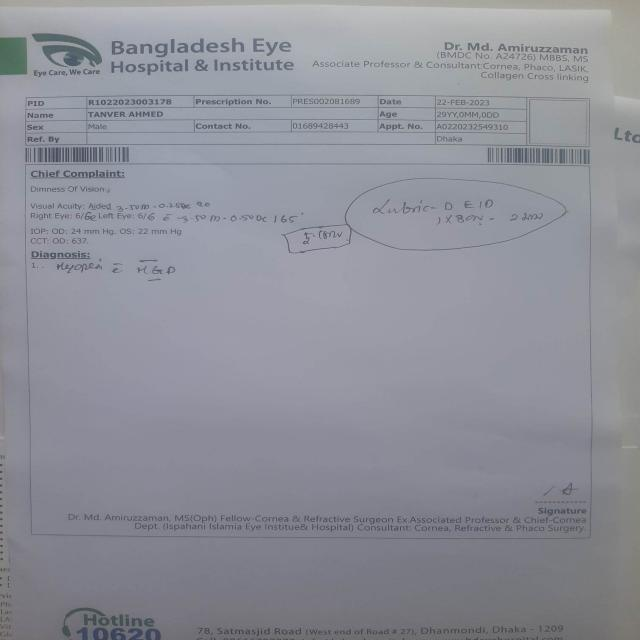Lubric D: (371, 197, 457, 217)
